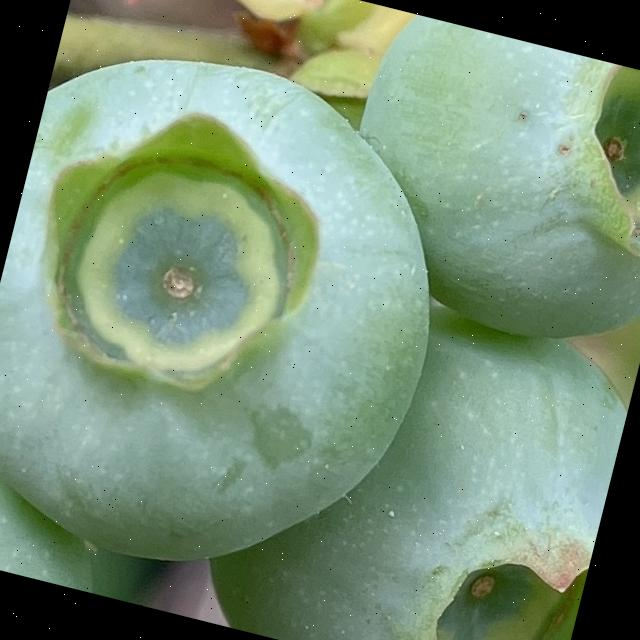Blueberries: (0, 13, 484, 615)
